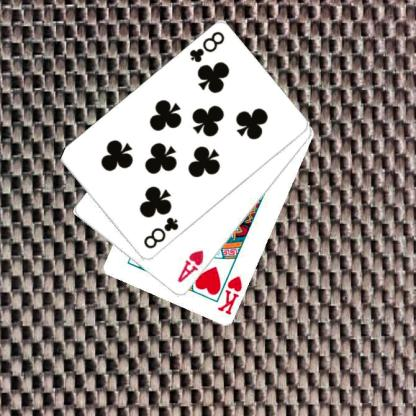8C: (140, 214, 180, 250), (186, 29, 226, 64)
AH: (174, 247, 205, 284)
KH: (215, 273, 243, 317)
